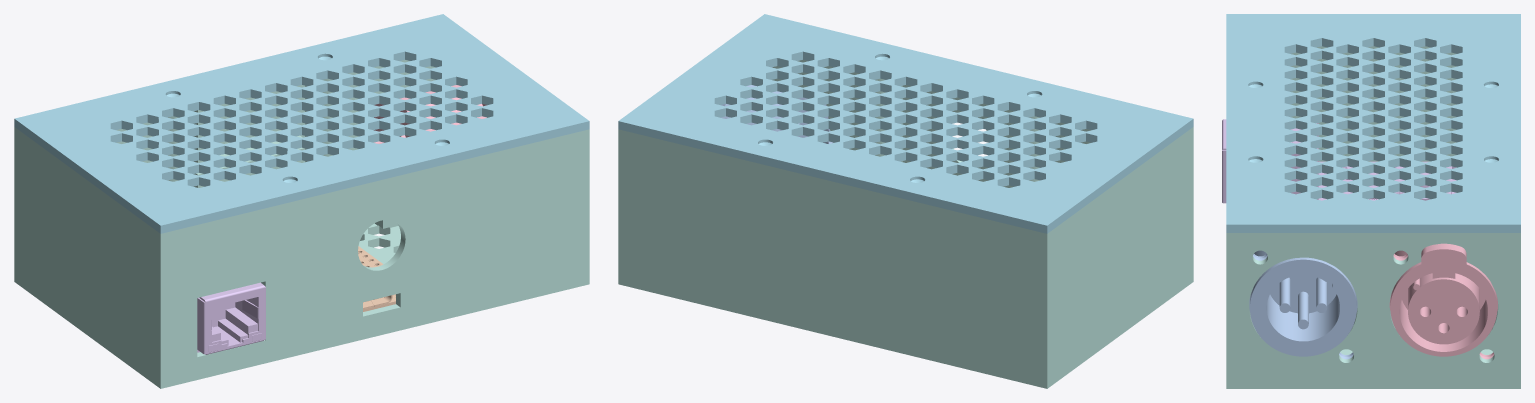
The model's file is ChaosDMX_xlrScrewed_vent.glb.
3 views of the same model, side by side, from view 1: azimuth 30°, elevation 25°; view 2: azimuth 150°, elevation 25°; view 3: azimuth 270°, elevation 25° (orthographic).
Visible parts, largest first — view 1: case_bottom, case_lid, object 348, object 349; view 2: case_bottom, case_lid; view 3: case_lid, case_bottom, xlr_fd, xlr_md, object 348, w5500.
Boxes of the visible parts, left/top/right/bottom form: case_bottom: left=14, top=60, right=589, bottom=388; case_lid: left=14, top=14, right=589, bottom=233; object 348: left=197, top=282, right=265, bottom=354; object 349: left=200, top=297, right=257, bottom=345; case_bottom: left=618, top=60, right=1193, bottom=388; case_lid: left=618, top=14, right=1193, bottom=233; case_lid: left=1226, top=14, right=1520, bottom=232; case_bottom: left=1226, top=46, right=1520, bottom=388; xlr_fd: left=1389, top=243, right=1497, bottom=359; xlr_md: left=1249, top=250, right=1357, bottom=359; object 348: left=1222, top=119, right=1318, bottom=203; w5500: left=1318, top=161, right=1456, bottom=200.
Bounding box in the file's own units: 0.1137 × 0.04 × 0.0659.
